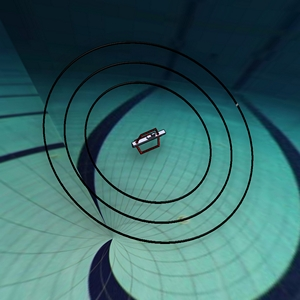circle: (33, 30, 273, 251)
submarine: (127, 123, 173, 162)
